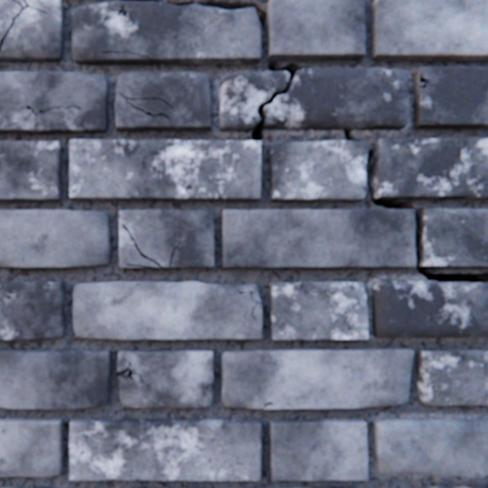brick: (222, 209, 487, 267), (72, 2, 260, 65), (70, 418, 260, 480), (220, 348, 412, 408), (70, 140, 260, 200), (73, 281, 261, 339), (370, 0, 487, 62), (372, 139, 487, 199), (0, 348, 111, 408), (0, 73, 108, 134), (0, 210, 111, 268), (268, 418, 367, 479), (266, 0, 364, 61), (268, 141, 367, 201), (269, 281, 367, 339), (115, 73, 211, 131), (117, 349, 213, 407), (119, 210, 214, 267), (413, 67, 487, 129), (0, 0, 64, 63), (416, 349, 487, 405), (0, 282, 65, 339), (0, 417, 63, 475), (0, 142, 61, 201), (0, 0, 21, 45), (420, 485, 487, 487), (229, 486, 351, 487), (15, 0, 26, 8), (125, 486, 210, 487), (0, 486, 55, 487)
broken_brick: (263, 69, 408, 130), (372, 418, 487, 478), (371, 280, 487, 337), (218, 72, 288, 132)
crack: (251, 62, 310, 141), (414, 230, 487, 282), (365, 151, 416, 225), (167, 0, 266, 36), (0, 0, 47, 52), (122, 224, 162, 267), (118, 93, 169, 119), (237, 291, 260, 321), (118, 361, 146, 383), (27, 106, 81, 116), (169, 242, 180, 267), (343, 131, 358, 141), (419, 74, 428, 88), (121, 0, 161, 3), (126, 263, 153, 267), (118, 7, 126, 17), (261, 401, 272, 408), (138, 55, 151, 60), (103, 52, 134, 54), (260, 144, 262, 153)
